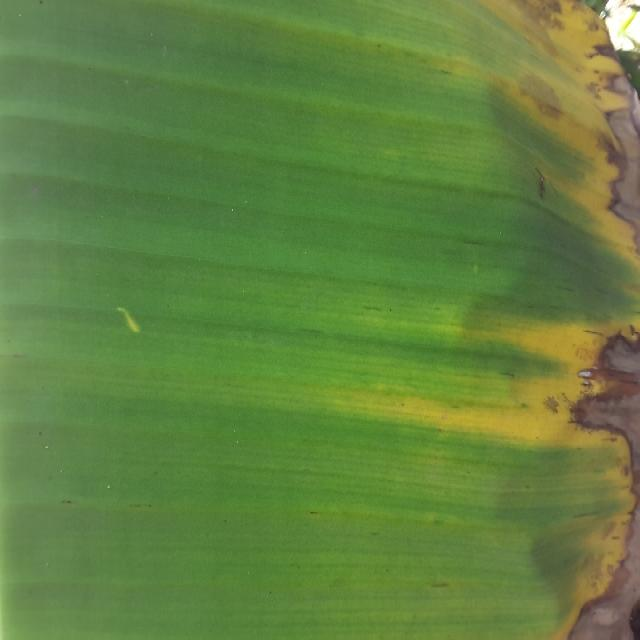Cordana: (354, 0, 640, 640), (116, 282, 159, 361)
